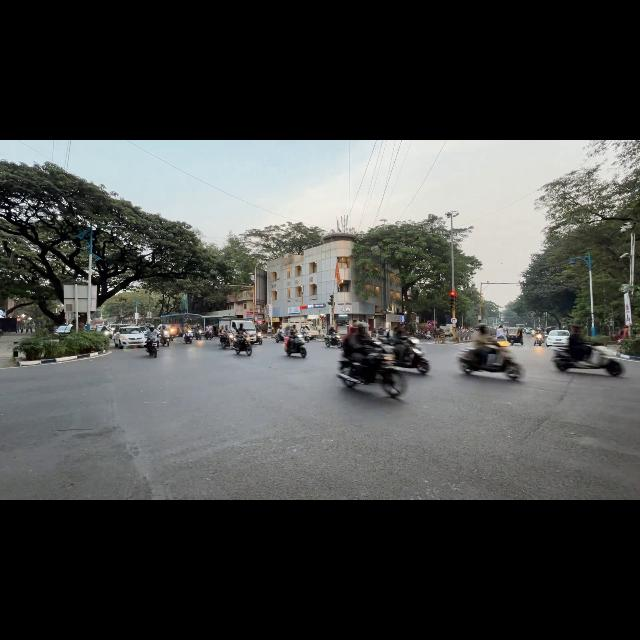bus: (161, 314, 202, 335), (144, 318, 161, 326)
car: (114, 326, 145, 348), (546, 330, 569, 346), (54, 324, 74, 338), (96, 325, 112, 338), (526, 328, 533, 334)
motorcycle: (338, 342, 407, 397), (458, 347, 522, 380), (552, 347, 623, 376), (396, 338, 429, 374), (284, 334, 306, 357), (233, 335, 252, 355), (146, 339, 158, 357), (325, 335, 342, 347), (220, 334, 234, 348), (160, 330, 169, 346), (252, 331, 262, 344), (184, 330, 193, 343), (534, 334, 544, 345), (169, 327, 176, 340), (275, 332, 284, 342), (195, 329, 202, 340), (205, 331, 212, 339), (303, 333, 309, 342)
truck: (282, 318, 321, 339)
